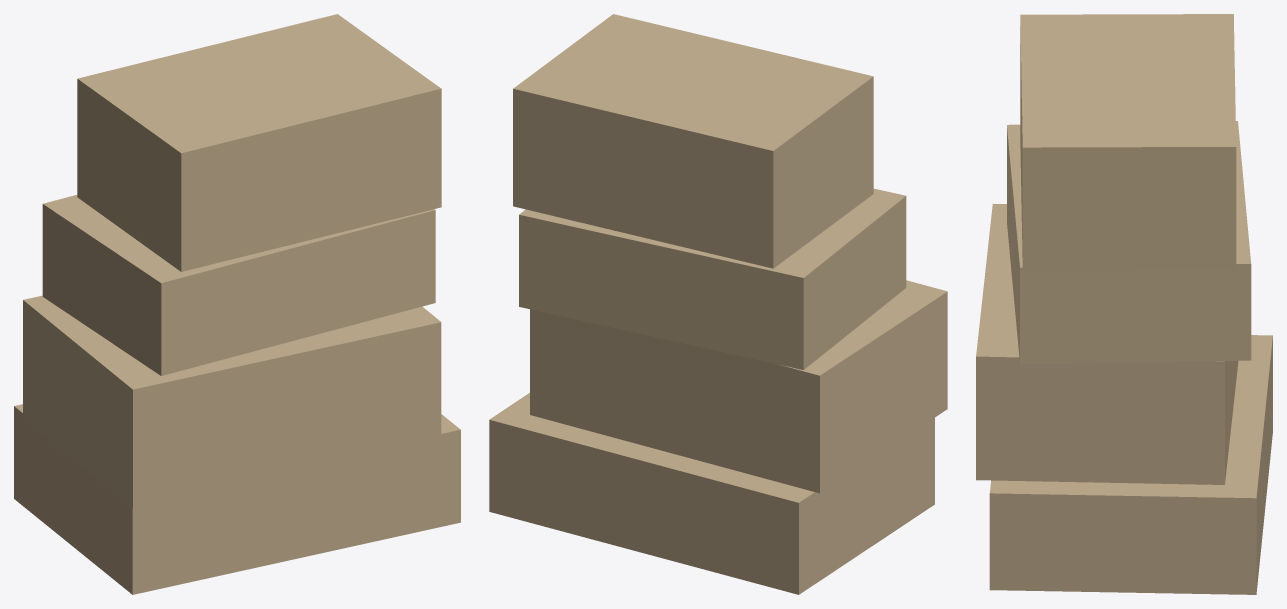
File: cardboard_stack_01.glb
The picture shows the model from 3 angles, left to right: view 1: azimuth 30°, elevation 25°; view 2: azimuth 150°, elevation 25°; view 3: azimuth 270°, elevation 25°; orthographic projection. The views are drawn at different scales.
Parts seen in each view (by area): view 1: box3, box1, box2, box0; view 2: box3, box1, box0, box2; view 3: box3, box0, box1, box2.
Part boxes in pixels (left/top/right/bottom): box3: left=77, top=14, right=441, bottom=271; box1: left=23, top=295, right=441, bottom=508; box2: left=42, top=195, right=435, bottom=375; box0: left=14, top=404, right=460, bottom=594; box3: left=513, top=14, right=873, bottom=268; box1: left=530, top=280, right=947, bottom=493; box0: left=489, top=393, right=934, bottom=594; box2: left=519, top=188, right=906, bottom=369; box3: left=1020, top=14, right=1236, bottom=271; box0: left=989, top=335, right=1272, bottom=594; box1: left=976, top=203, right=1238, bottom=484; box2: left=1007, top=121, right=1251, bottom=364.
Bounding box in the file's own units: 0.6813 × 0.82 × 0.5006.
